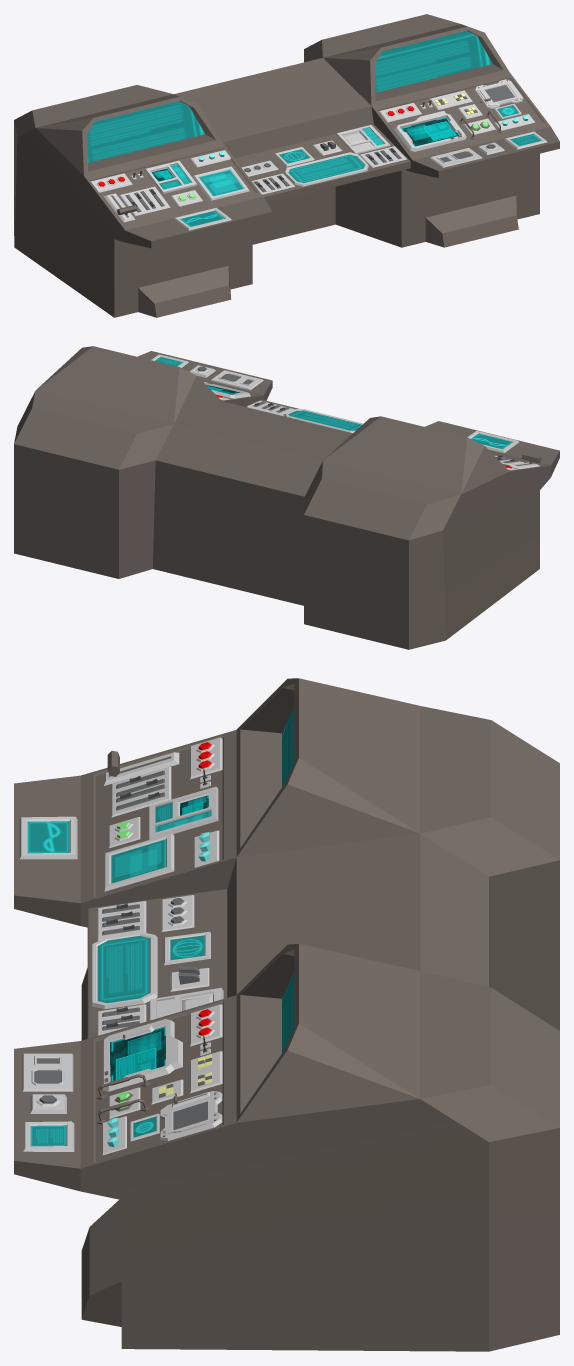
File: Hangar_ControlPanel_01.fbx
3 views of the same model, one above another, from view 1: azimuth 30°, elevation 25°; view 2: azimuth 150°, elevation 25°; view 3: azimuth 270°, elevation 25° (orthographic). The views are drawn at different scales.
Parts seen in each view (by area): view 1: Hangar; view 2: Hangar; view 3: Hangar.
Boxes of the visible parts, box(x1,y1,x2,y2) form: Hangar: box(14, 14, 559, 317); Hangar: box(14, 346, 559, 649); Hangar: box(14, 678, 559, 1351).
Bounding box in the file's own units: 367 × 129 × 212.
